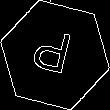P_S: (31, 26, 79, 84)
